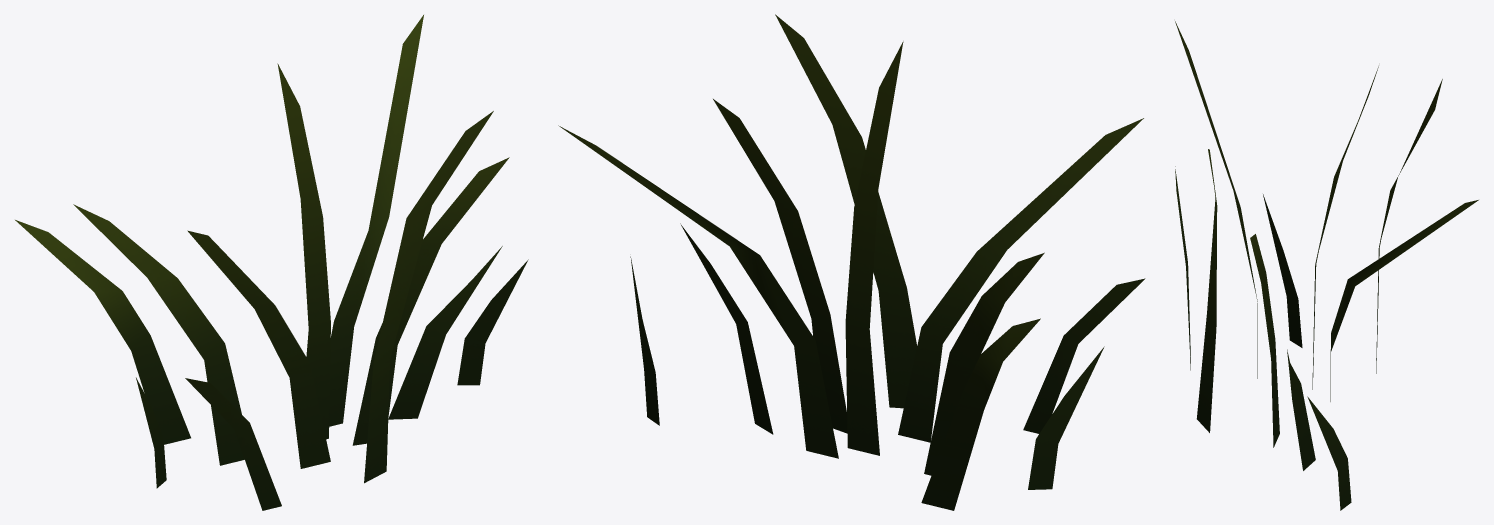
Rendered from grass_small.glb.
3 renders of one model, left to right at view 1: azimuth 30°, elevation 25°; view 2: azimuth 150°, elevation 25°; view 3: azimuth 270°, elevation 25°, orthographic. The views are drawn at different scales.
Parts seen in each view (by area): view 1: Grass_Small2; view 2: Grass_Small2; view 3: Grass_Small2.
Part boxes in pixels (bbox=[...]): Grass_Small2: bbox=[15, 15, 528, 510]; Grass_Small2: bbox=[558, 14, 1145, 510]; Grass_Small2: bbox=[1175, 21, 1478, 510].
Size of the model in its own units: 0.47 by 0.3941 by 0.2775.
Materials: 1 (1 with a texture image).
